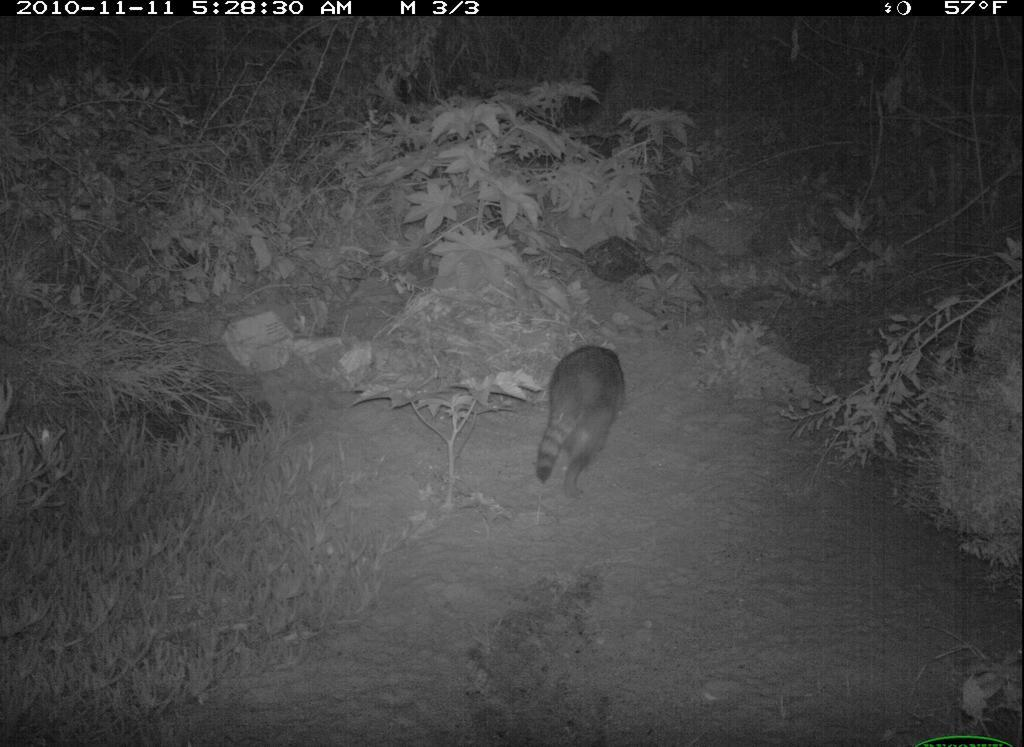raccoon: (521, 336, 632, 504)
